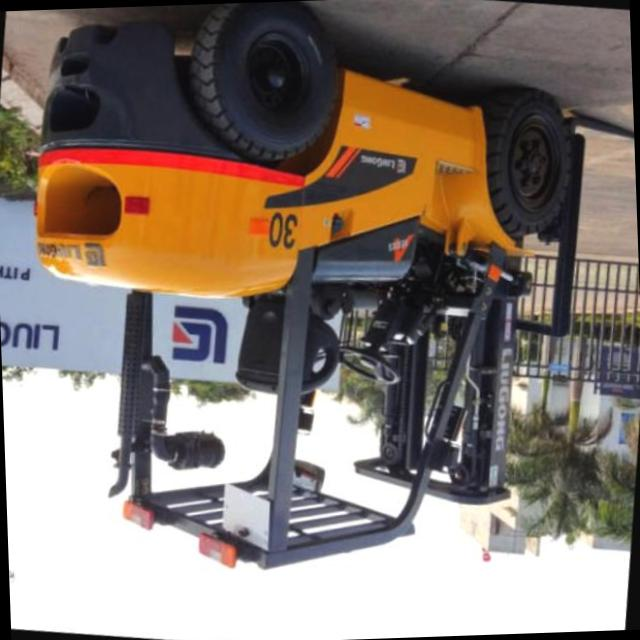forklift: (0, 0, 628, 623)
